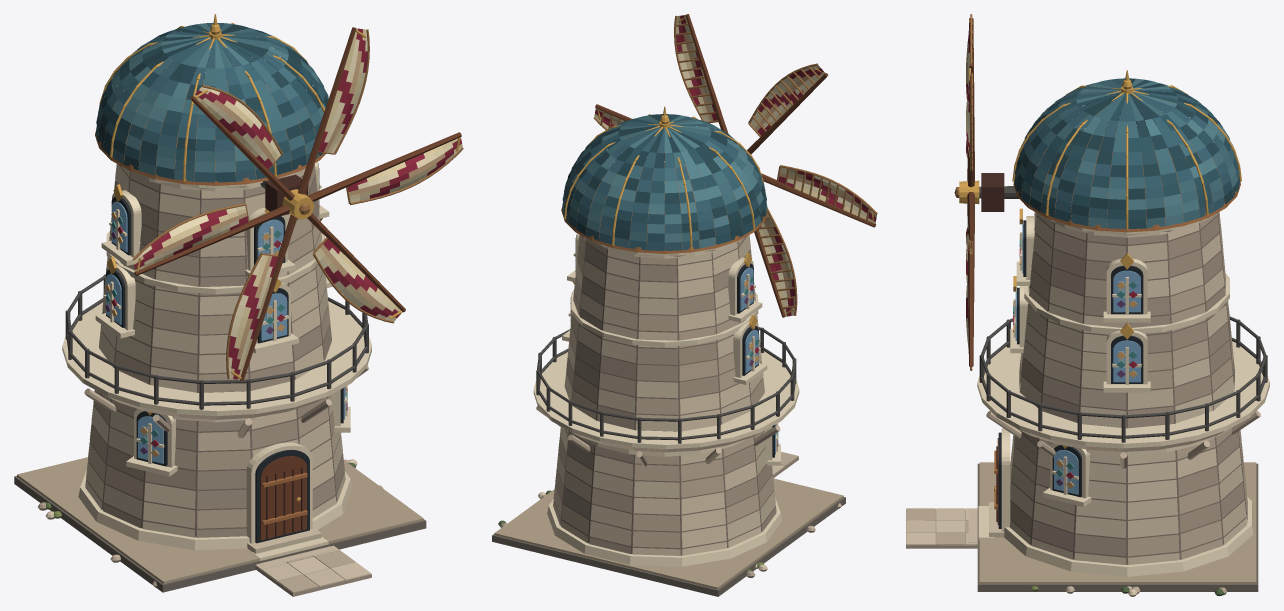
File: windmill-nivel-7.glb
The picture shows the model from 3 angles, left to right: view 1: azimuth 30°, elevation 25°; view 2: azimuth 150°, elevation 25°; view 3: azimuth 270°, elevation 25°; orthographic projection. The views are drawn at different scales.
Visible parts, largest first — view 1: Moinho de vento 07 #e6d7ba, Moinho de vento 07 #d3c3a9, Moinho de vento 07 #dac9af, Moinho de vento 07 #c1af99, Moinho de vento 07 #ae9d8b, Moinho de vento 07 #b4a38a, Moinho de vento 07 #46717c, Moinho de vento 07 #87776b, Moinho de vento 07 #3b6472, Pás do moinho #70432c.006, Pás do moinho #922b40, Moinho de vento 07 #305762 (+15 smaller); view 2: Moinho de vento 07 #e6d7ba, Moinho de vento 07 #d3c3a9, Moinho de vento 07 #c1af99, Moinho de vento 07 #dac9af, Moinho de vento 07 #ae9d8b, Moinho de vento 07 #87776b, Moinho de vento 07 #b4a38a, Moinho de vento 07 #3b6472, Moinho de vento 07 #54818b, Moinho de vento 07 #305762, Moinho de vento 07 #294952, Moinho de vento 07 #46717c (+12 smaller); view 3: Moinho de vento 07 #e6d7ba, Moinho de vento 07 #dac9af, Moinho de vento 07 #d3c3a9, Moinho de vento 07 #ae9d8b, Moinho de vento 07 #c1af99, Moinho de vento 07 #87776b, Moinho de vento 07 #b4a38a, Moinho de vento 07 #46717c, Moinho de vento 07 #3b6472, Moinho de vento 07 #294952, Moinho de vento 07 #305762, Moinho de vento 07 #504e4b (+9 smaller).
Boxes of the visible parts, x1=… form: Moinho de vento 07 #e6d7ba: x1=62, y1=162, x2=371, y2=560; Moinho de vento 07 #d3c3a9: x1=45, y1=166, x2=345, y2=586; Moinho de vento 07 #dac9af: x1=85, y1=164, x2=371, y2=580; Moinho de vento 07 #c1af99: x1=75, y1=164, x2=383, y2=593; Moinho de vento 07 #ae9d8b: x1=38, y1=174, x2=371, y2=596; Moinho de vento 07 #b4a38a: x1=17, y1=457, x2=423, y2=583; Moinho de vento 07 #46717c: x1=107, y1=23, x2=321, y2=181; Moinho de vento 07 #87776b: x1=86, y1=165, x2=344, y2=537; Moinho de vento 07 #3b6472: x1=98, y1=23, x2=328, y2=182; Pás do moinho #70432c.006: x1=134, y1=27, x2=461, y2=380; Pás do moinho #922b40: x1=134, y1=28, x2=461, y2=379; Moinho de vento 07 #305762: x1=96, y1=24, x2=322, y2=182; Moinho de vento 07 #e6d7ba: x1=533, y1=233, x2=799, y2=566; Moinho de vento 07 #d3c3a9: x1=553, y1=235, x2=784, y2=571; Moinho de vento 07 #c1af99: x1=536, y1=237, x2=841, y2=547; Moinho de vento 07 #dac9af: x1=538, y1=235, x2=775, y2=568; Moinho de vento 07 #ae9d8b: x1=500, y1=235, x2=798, y2=577; Moinho de vento 07 #87776b: x1=554, y1=236, x2=775, y2=555; Moinho de vento 07 #b4a38a: x1=494, y1=478, x2=843, y2=589; Moinho de vento 07 #3b6472: x1=563, y1=115, x2=762, y2=250; Moinho de vento 07 #54818b: x1=562, y1=115, x2=766, y2=248; Moinho de vento 07 #305762: x1=564, y1=114, x2=766, y2=244; Moinho de vento 07 #294952: x1=575, y1=114, x2=765, y2=240; Moinho de vento 07 #46717c: x1=562, y1=115, x2=767, y2=248; Moinho de vento 07 #e6d7ba: x1=977, y1=216, x2=1269, y2=576; Moinho de vento 07 #dac9af: x1=906, y1=212, x2=1246, y2=596; Moinho de vento 07 #d3c3a9: x1=906, y1=212, x2=1246, y2=589; Moinho de vento 07 #ae9d8b: x1=906, y1=216, x2=1247, y2=595; Moinho de vento 07 #c1af99: x1=906, y1=213, x2=1260, y2=594; Moinho de vento 07 #87776b: x1=1010, y1=213, x2=1246, y2=564; Moinho de vento 07 #b4a38a: x1=979, y1=462, x2=1256, y2=584; Moinho de vento 07 #46717c: x1=1018, y1=79, x2=1239, y2=228; Moinho de vento 07 #3b6472: x1=1014, y1=78, x2=1239, y2=225; Moinho de vento 07 #294952: x1=1014, y1=78, x2=1233, y2=218; Moinho de vento 07 #305762: x1=1016, y1=79, x2=1238, y2=228; Moinho de vento 07 #504e4b: x1=979, y1=186, x2=1267, y2=442.
Size of the model in its own units: 7.06 by 10.65 by 7.11.
